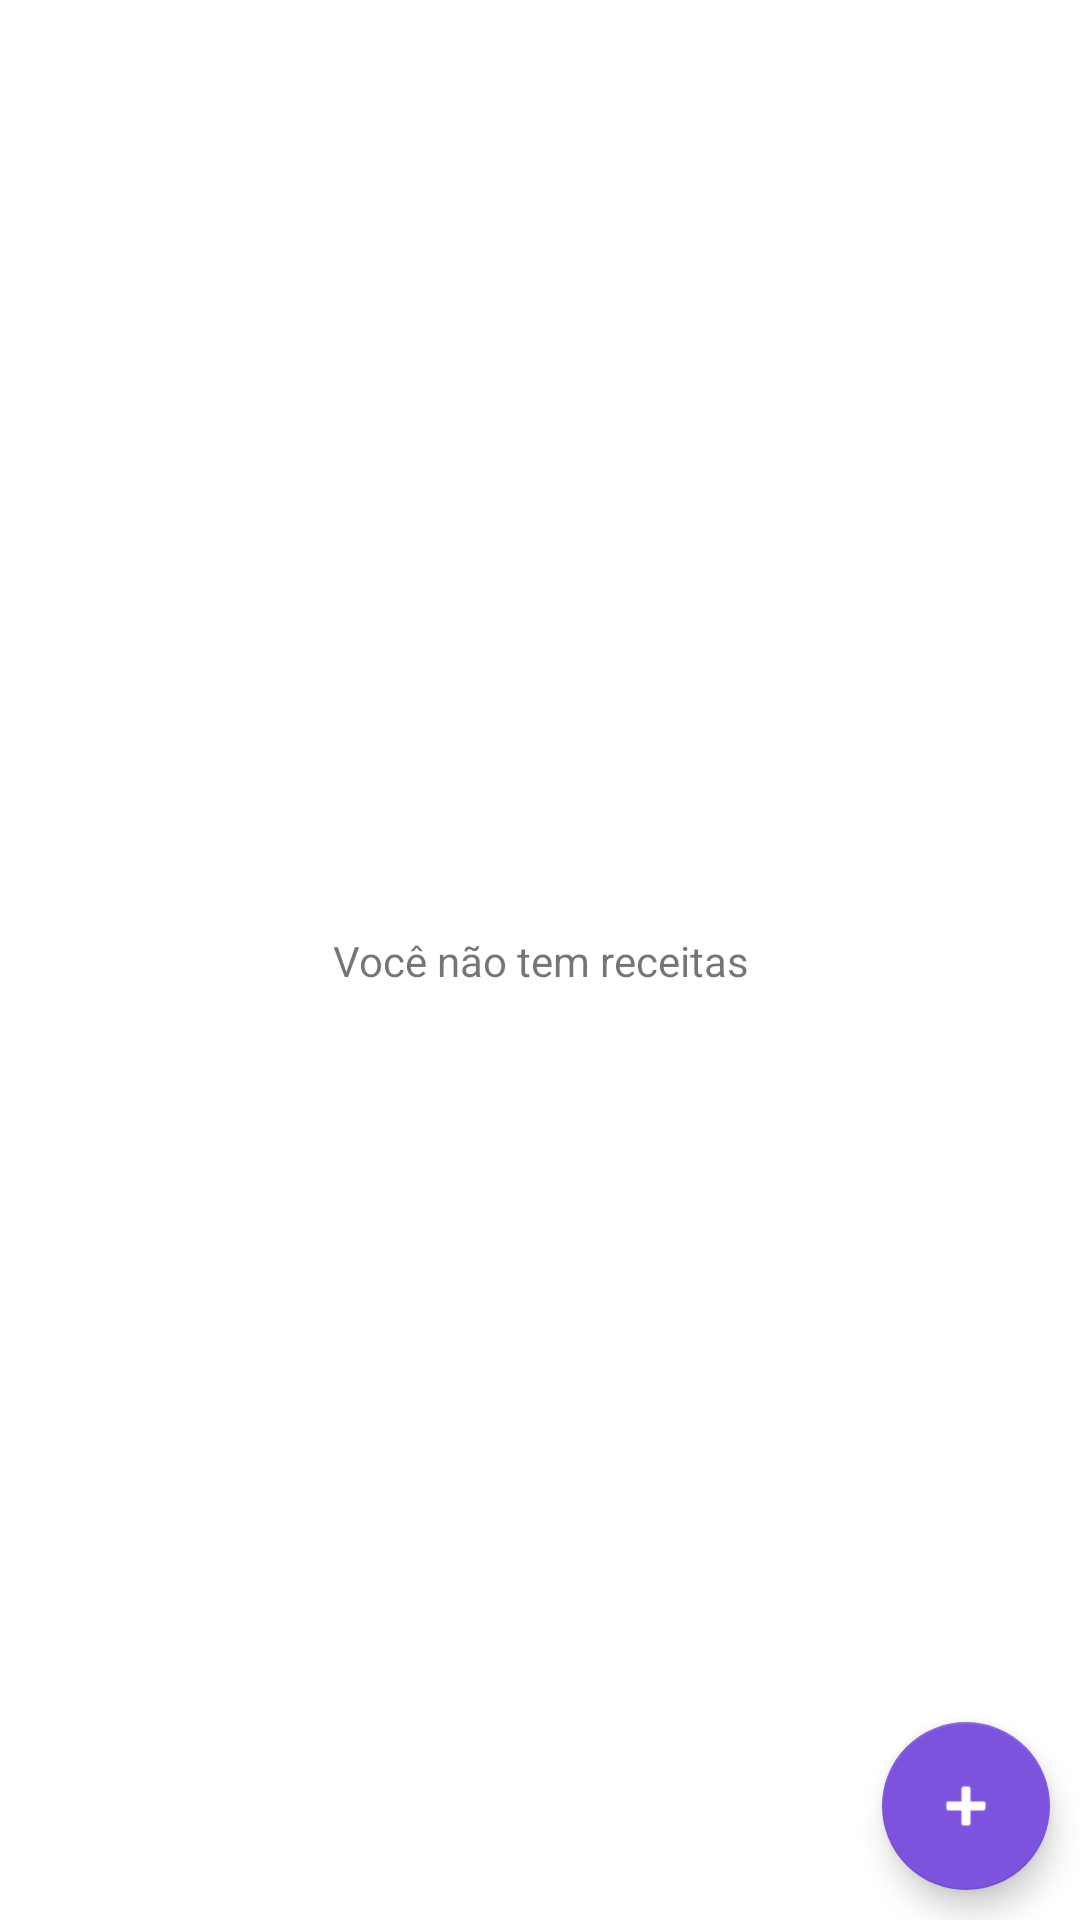

Screen size 1080px x 1920px. Icon name, then its box in pixels as (x1, y1, x2, y2):
Adicionar receita: (882, 1722, 1050, 1890)
